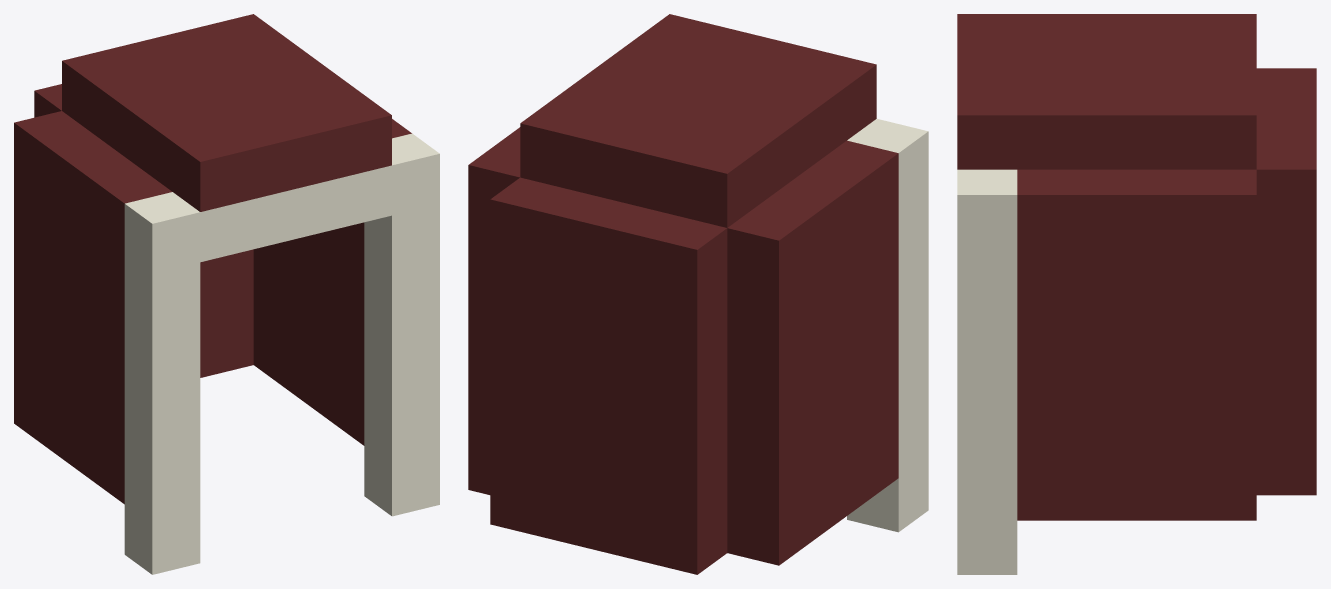
Rendered from char-264-helm_lgt_2a_du_color.obj.
3 views of the same model, side by side, from view 1: azimuth 30°, elevation 25°; view 2: azimuth 150°, elevation 25°; view 3: azimuth 270°, elevation 25° (orthographic). The views are drawn at different scales.
Visible parts, largest first — view 1: helm_lgt_2a_du_color; view 2: helm_lgt_2a_du_color; view 3: helm_lgt_2a_du_color.
Part boxes in pixels (x1,y1,x2,y2): helm_lgt_2a_du_color: (14,14,439,574); helm_lgt_2a_du_color: (468,14,928,574); helm_lgt_2a_du_color: (957,14,1316,574).
Bounding box in the file's own units: 0.6 × 0.8 × 0.6.
1 material, 1 textured.
